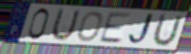0: (26, 7, 51, 41)
E: (98, 12, 134, 44)
J: (127, 12, 158, 46)
O: (76, 10, 104, 43)
U: (149, 13, 183, 48), (48, 7, 82, 42)
